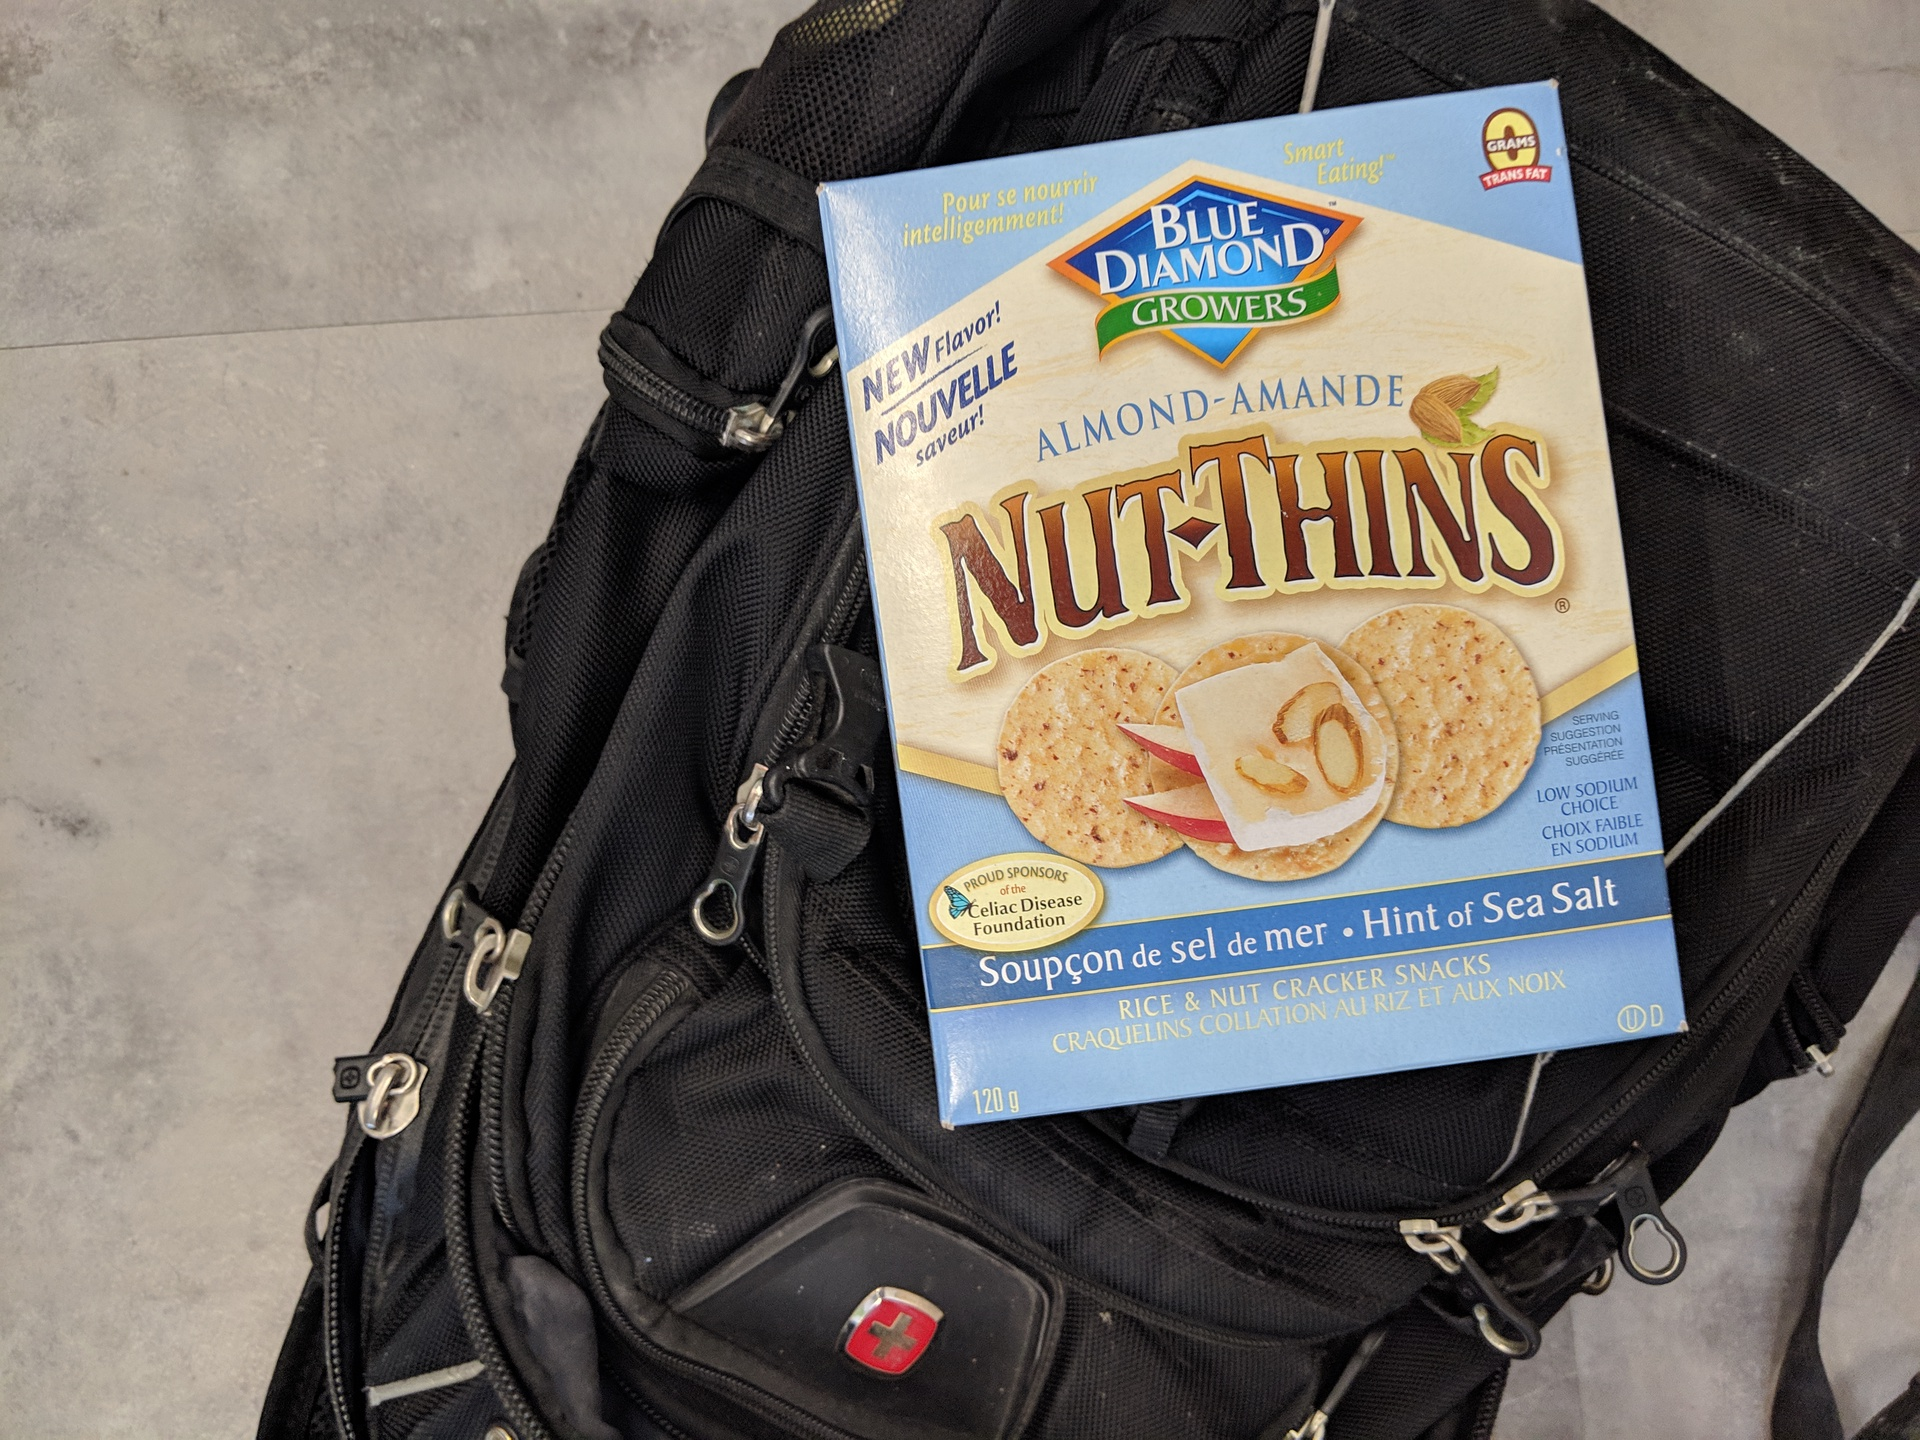blue_diamond_nut_thins_almond_seasalt: (946, 165, 1568, 1035)
